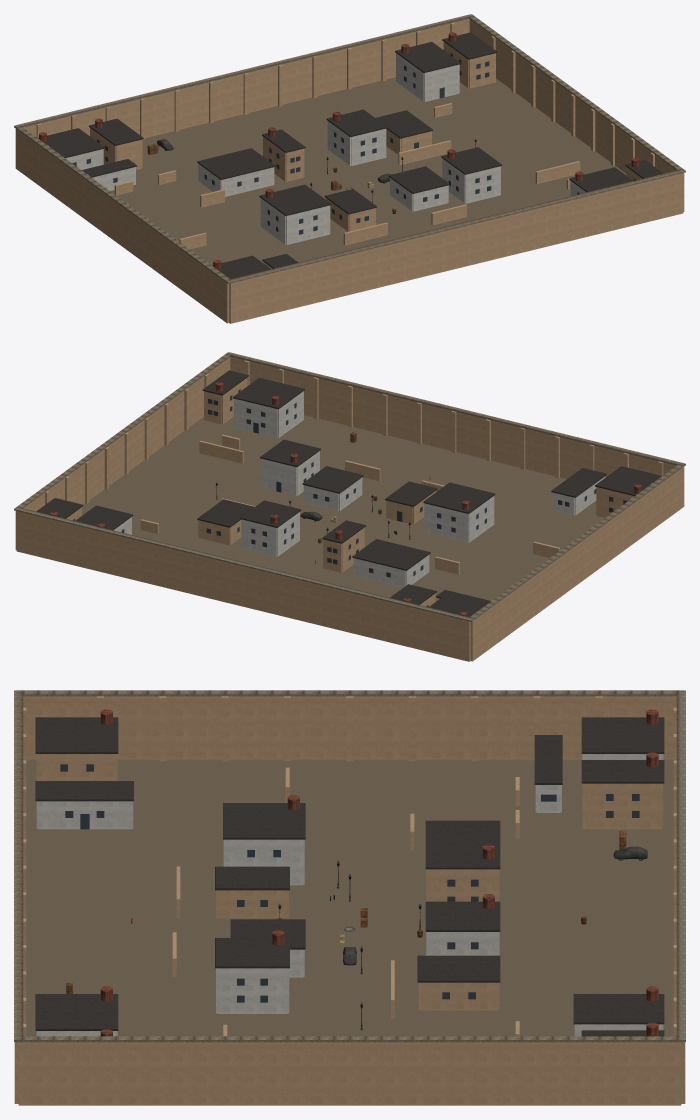
Rendered from callejones.glb.
3 renders of one model, top to bottom at view 1: azimuth 30°, elevation 25°; view 2: azimuth 150°, elevation 25°; view 3: azimuth 270°, elevation 25°, orthographic. The views are drawn at different scales.
Parts seen in each view (by area): view 1: fusion_arena_1000_1000, fusion_ocre_1000_998, fusion_ocre_1000_1001, fusion_ocre_997_1000, fusion_ocre_1002_1000, fusion_cal_1000_999, fusion_hormigon_998_1001, fusion_piedra_1000_998, fusion_piedra_1000_1001, fusion_hormigon_999_999, fusion_hormigon_1000_999, fusion_hormigon_999_1000 (+25 smaller); view 2: fusion_arena_1000_1000, fusion_ocre_1000_1001, fusion_ocre_1000_998, fusion_ocre_997_1000, fusion_ocre_1002_1000, fusion_cal_1000_999, fusion_piedra_1000_1001, fusion_piedra_1000_998, fusion_hormigon_999_999, fusion_cal_1001_998, fusion_hormigon_998_998, fusion_hormigon_1000_999 (+23 smaller); view 3: fusion_arena_1000_1000, fusion_ocre_1002_1000, fusion_ocre_997_1000, fusion_hormigon_998_1001, fusion_hormigon_998_998, fusion_hormigon_999_999, fusion_piedra_1002_1000, fusion_piedra_997_1000, fusion_hormigon_1000_1000, fusion_ocre_998_1001, fusion_hormigon_999_1000, fusion_hormigon_1000_999 (+14 smaller).
Part boxes in pixels (<box>): fusion_arena_1000_1000: <box>110,77,626,265</box>; fusion_ocre_1000_998: <box>230,173,683,323</box>; fusion_ocre_1000_1001: <box>24,19,469,138</box>; fusion_ocre_997_1000: <box>15,129,227,322</box>; fusion_ocre_1002_1000: <box>469,19,676,173</box>; fusion_cal_1000_999: <box>390,158,500,211</box>; fusion_hormigon_998_1001: <box>38,118,143,176</box>; fusion_piedra_1000_998: <box>226,170,685,283</box>; fusion_piedra_1000_1001: <box>15,14,473,127</box>; fusion_hormigon_999_999: <box>260,184,376,215</box>; fusion_hormigon_1000_999: <box>388,147,501,193</box>; fusion_hormigon_999_1000: <box>198,129,305,179</box>; fusion_arena_1000_1000: <box>82,415,604,601</box>; fusion_ocre_1000_1001: <box>16,511,469,661</box>; fusion_ocre_1000_998: <box>230,357,675,478</box>; fusion_ocre_997_1000: <box>472,467,684,660</box>; fusion_ocre_1002_1000: <box>23,357,230,511</box>; fusion_cal_1000_999: <box>261,451,362,511</box>; fusion_piedra_1000_1001: <box>14,508,473,621</box>; fusion_piedra_1000_998: <box>226,352,685,465</box>; fusion_hormigon_999_999: <box>385,481,494,513</box>; fusion_cal_1001_998: <box>234,391,303,437</box>; fusion_hormigon_998_998: <box>551,466,661,497</box>; fusion_hormigon_1000_999: <box>260,439,363,493</box>; fusion_arena_1000_1000: <box>26,759,673,1036</box>; fusion_ocre_1002_1000: <box>18,1042,681,1105</box>; fusion_ocre_997_1000: <box>23,696,676,761</box>; fusion_hormigon_998_1001: <box>535,717,664,784</box>; fusion_hormigon_998_998: <box>35,717,133,801</box>; fusion_hormigon_999_999: <box>215,803,305,890</box>; fusion_piedra_1002_1000: <box>14,1036,685,1042</box>; fusion_piedra_997_1000: <box>15,690,685,696</box>; fusion_hormigon_1000_1000: <box>417,901,500,980</box>; fusion_ocre_998_1001: <box>582,707,676,829</box>; fusion_hormigon_999_1000: <box>425,820,500,869</box>; fusion_hormigon_1000_999: <box>215,919,305,965</box>.
Size of what is drawn, in the model's own units: 106 by 9.8 by 86.2.
18 materials, 17 textured.
